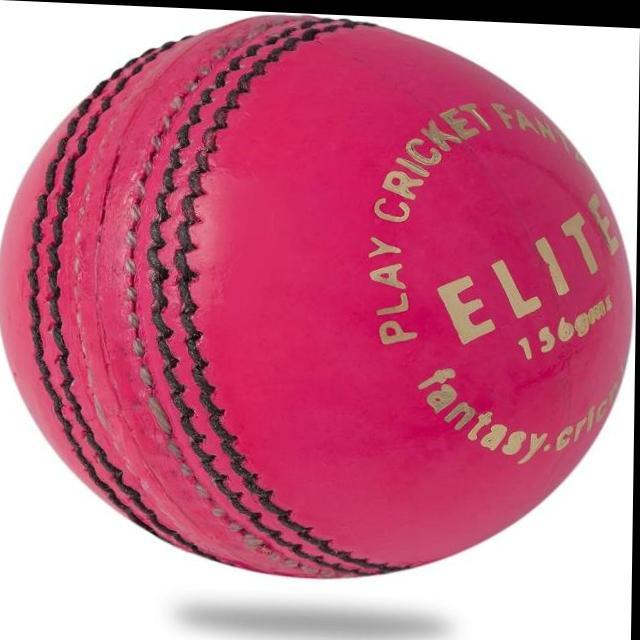cricket ball: (0, 12, 635, 577)
